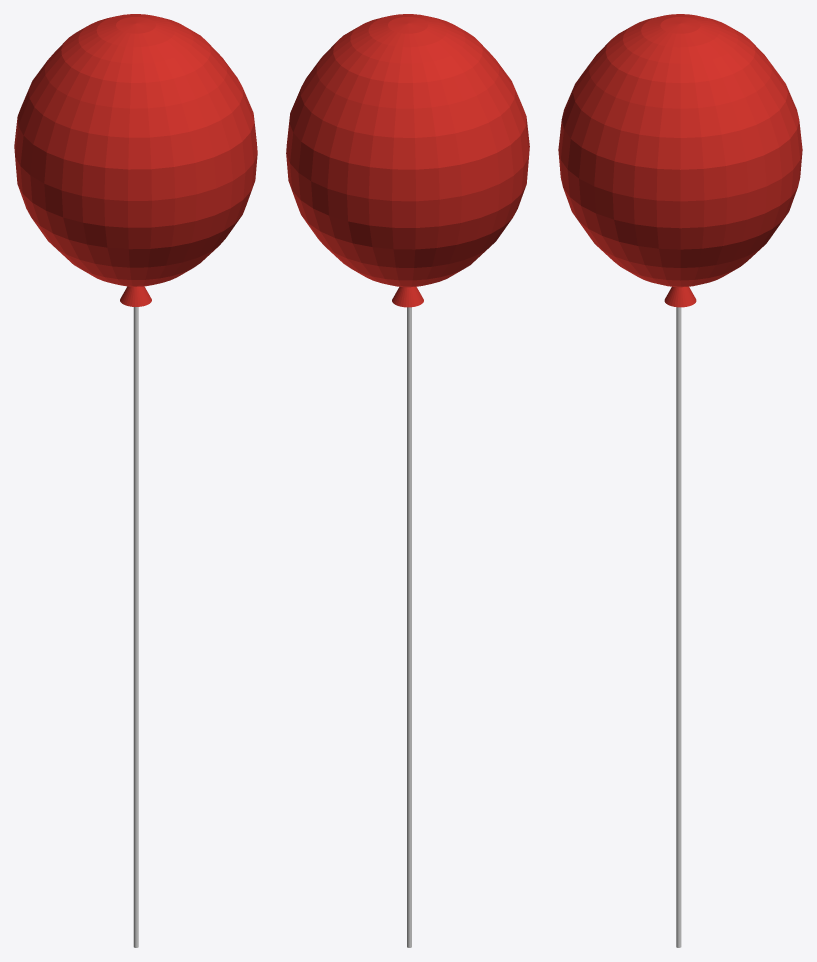
File: ballonRood.dae
3 renders of one model, left to right at view 1: azimuth 30°, elevation 25°; view 2: azimuth 150°, elevation 25°; view 3: azimuth 270°, elevation 25°, orthographic.
Visible parts, largest first — view 1: Sphere, Cylinder, Cone; view 2: Sphere, Cylinder, Cone; view 3: Sphere, Cylinder, Cone.
Boxes of the visible parts, <box> form: Sphere: <box>14,14,257,286</box>; Cylinder: <box>133,307,138,947</box>; Cone: <box>120,286,151,306</box>; Sphere: <box>286,14,529,287</box>; Cylinder: <box>407,307,411,947</box>; Cone: <box>392,286,423,307</box>; Sphere: <box>558,14,802,287</box>; Cylinder: <box>676,307,681,947</box>; Cone: <box>664,286,696,307</box>.
Size of the model in its own units: 2 by 2 by 8.35.
